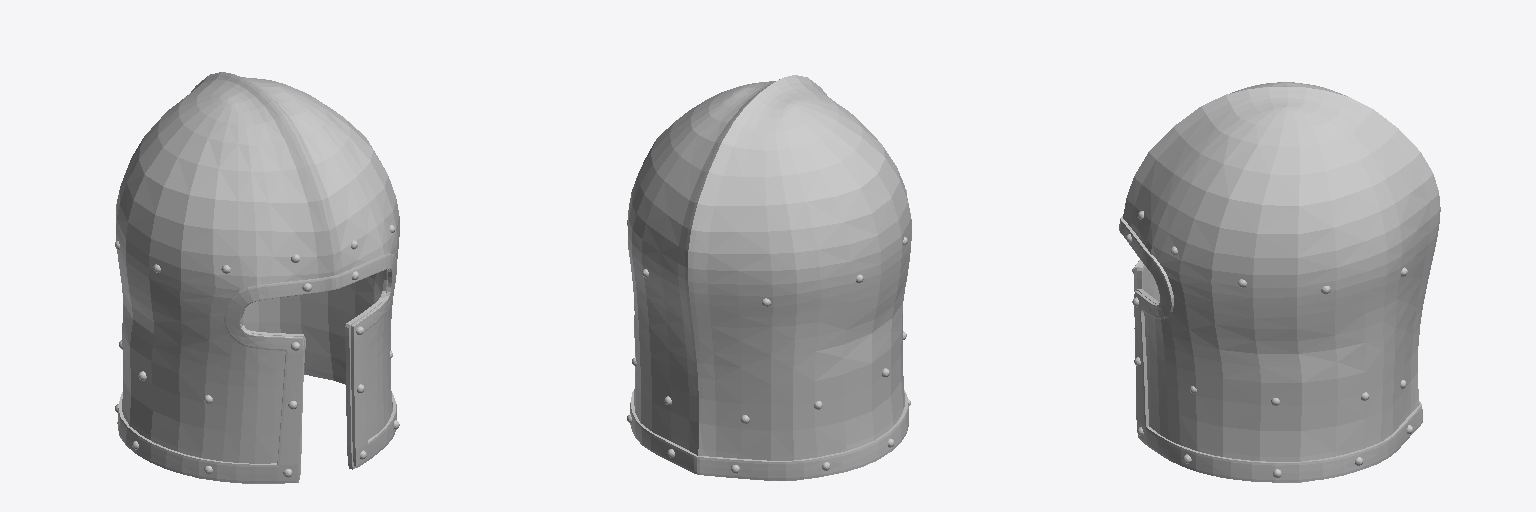
File: Barbute.obj
The picture shows the model from 3 angles: view 1: azimuth 30°, elevation 25°; view 2: azimuth 150°, elevation 25°; view 3: azimuth 270°, elevation 25°; orthographic projection.
Visible parts, largest first — view 1: Barbute_Mesh.001; view 2: Barbute_Mesh.001; view 3: Barbute_Mesh.001.
Boxes of the visible parts, <box> form: Barbute_Mesh.001: <box>115,72,399,483</box>; Barbute_Mesh.001: <box>627,75,911,480</box>; Barbute_Mesh.001: <box>1119,82,1440,482</box>.
Size of the model in its own units: 0.2042 by 0.2654 by 0.2282.